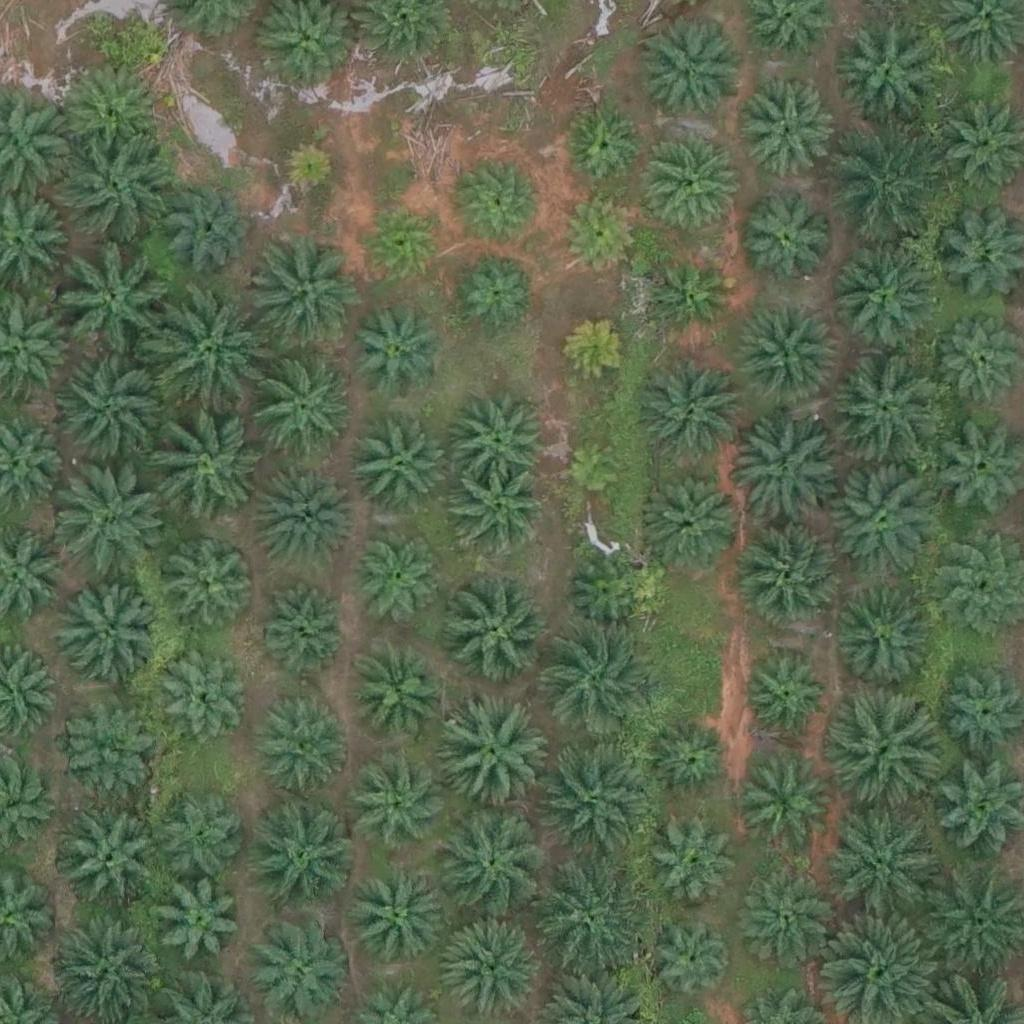Kelapa_Sawit: (828, 467, 941, 581), (635, 351, 748, 465), (542, 744, 655, 858), (439, 572, 552, 686), (831, 349, 944, 462), (828, 686, 941, 799), (733, 417, 846, 530), (432, 700, 545, 813), (54, 352, 167, 465), (829, 13, 942, 126), (830, 136, 943, 249), (151, 299, 264, 412), (57, 248, 170, 361), (53, 469, 165, 583), (827, 807, 939, 920), (545, 623, 657, 736), (533, 863, 645, 976), (435, 807, 547, 920), (147, 408, 259, 521), (248, 235, 360, 348), (63, 131, 175, 244), (834, 587, 934, 688), (734, 304, 834, 405), (747, 527, 847, 628), (648, 468, 748, 569), (448, 388, 548, 489), (342, 301, 442, 402), (349, 417, 449, 518), (349, 641, 449, 742), (351, 758, 451, 859), (347, 869, 447, 970), (255, 357, 355, 458), (252, 690, 352, 791), (251, 809, 351, 910), (248, 918, 348, 1019), (160, 530, 260, 631), (60, 585, 160, 686), (64, 814, 164, 915), (740, 72, 840, 173), (733, 195, 833, 296), (638, 24, 738, 125), (637, 132, 737, 233), (62, 61, 162, 162), (445, 916, 545, 1016), (251, 472, 351, 572), (56, 697, 156, 797), (838, 246, 938, 346), (352, 539, 440, 628), (742, 873, 830, 961), (651, 824, 739, 912), (647, 918, 735, 1006), (565, 553, 653, 641), (457, 468, 545, 556), (257, 583, 345, 671), (456, 156, 544, 244), (456, 248, 544, 336), (554, 188, 642, 276), (562, 99, 650, 187), (169, 181, 257, 269), (743, 654, 830, 743), (747, 769, 834, 857), (646, 721, 733, 809), (158, 651, 245, 739), (158, 792, 245, 880), (155, 880, 242, 968), (357, 198, 444, 286), (647, 248, 734, 336), (559, 310, 634, 386), (274, 139, 337, 202), (564, 439, 626, 502)
